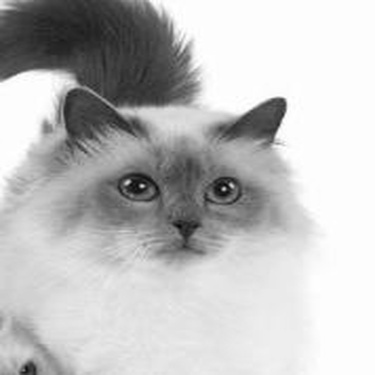cat: (4, 1, 299, 370)
